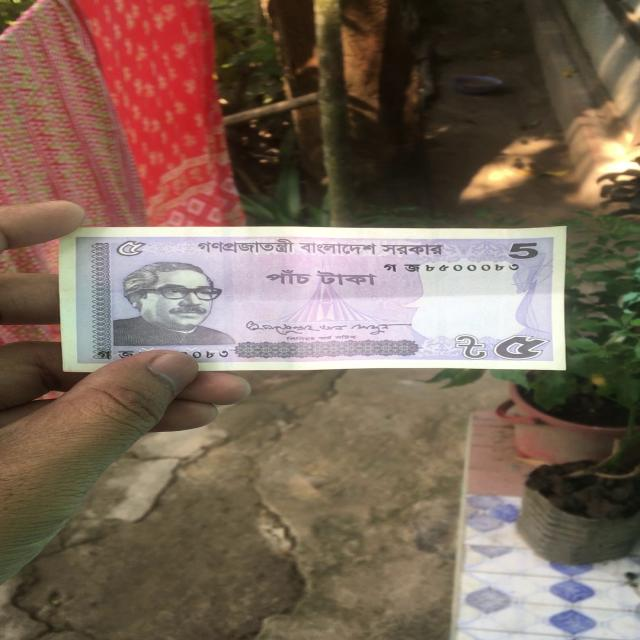Taka: (60, 224, 568, 372)
